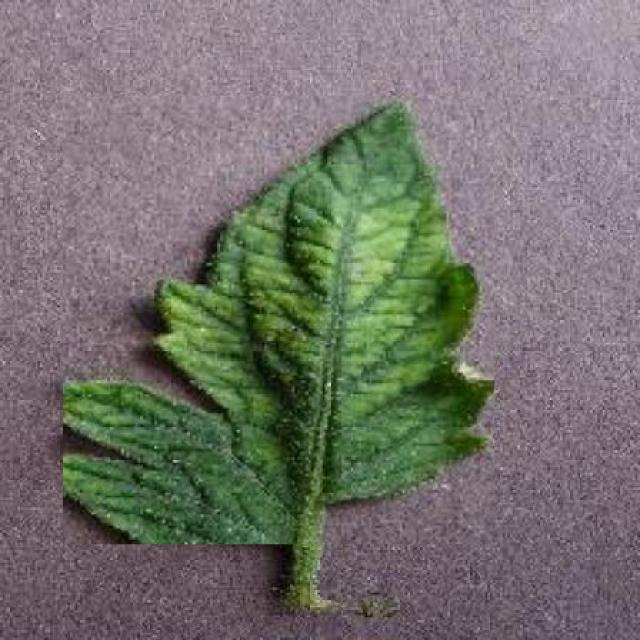Mosaic Virus: (64, 96, 495, 545)
